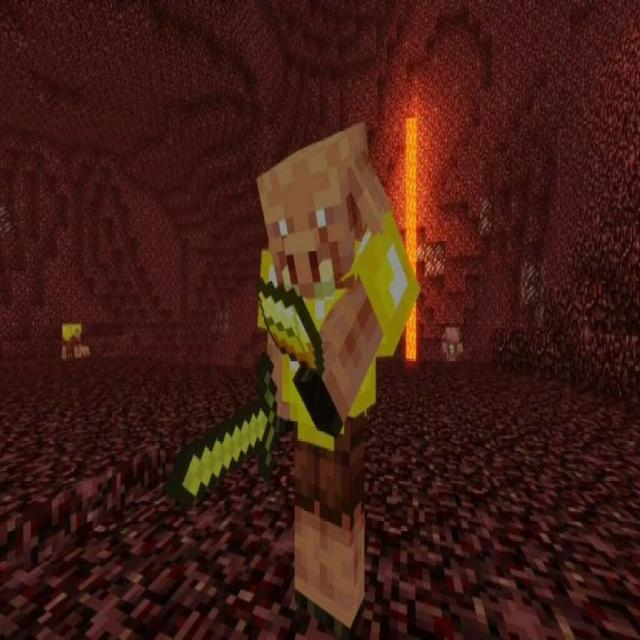Piglin: (176, 117, 422, 633)
